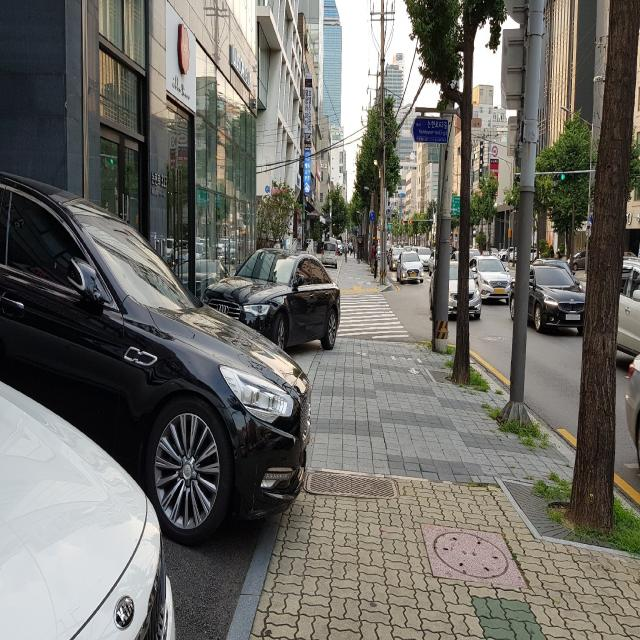횡단보도: (336, 292, 409, 340)
